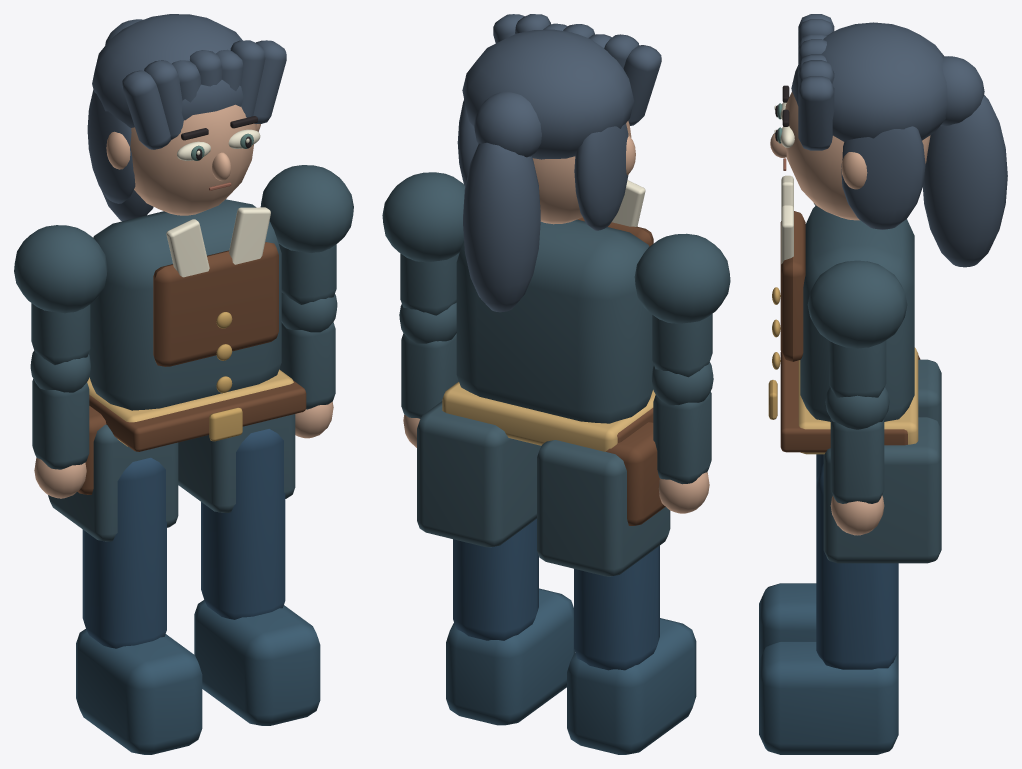
The model's file is wayfarer_woman.glb.
The picture shows the model from 3 angles, left to right: view 1: azimuth 30°, elevation 25°; view 2: azimuth 150°, elevation 25°; view 3: azimuth 270°, elevation 25°; orthographic projection. The views are drawn at different scales.
Parts seen in each view (by area): view 1: torso, left_leg_mesh, left_boot, right_leg_mesh, right_boot, chest_plate, hair_cap, head, left_pauldron, right_pauldron, coat_tail_left, detail_belt (+24 smaller); view 2: torso, coat_tail_right, hair_cap, coat_tail_left, left_boot, right_boot, hair_tail, left_leg_mesh, right_leg_mesh, left_pauldron, right_pauldron, belt (+15 smaller); view 3: right_boot, hair_cap, torso, hair_tail, coat_tail_right, right_leg_mesh, right_pauldron, hair_side_1, right_forearm, head, left_boot, chest_plate (+13 smaller).
Part boxes in pixels (bbox=[...]): torso: bbox=[88, 199, 281, 410]; left_leg_mesh: bbox=[82, 457, 166, 648]; left_boot: bbox=[76, 629, 202, 754]; right_leg_mesh: bbox=[201, 429, 285, 619]; right_boot: bbox=[194, 600, 320, 725]; chest_plate: bbox=[153, 242, 278, 366]; hair_cap: bbox=[92, 14, 243, 127]; head: bbox=[130, 104, 256, 215]; left_pauldron: bbox=[14, 225, 107, 313]; right_pauldron: bbox=[260, 165, 353, 252]; coat_tail_left: bbox=[48, 424, 178, 541]; detail_belt: bbox=[89, 380, 306, 451]; torso: bbox=[456, 219, 653, 423]; coat_tail_right: bbox=[417, 401, 541, 547]; hair_cap: bbox=[462, 29, 633, 159]; coat_tail_left: bbox=[537, 440, 670, 576]; left_boot: bbox=[567, 618, 696, 754]; right_boot: bbox=[446, 588, 574, 725]; hair_tail: bbox=[463, 142, 540, 312]; left_leg_mesh: bbox=[574, 545, 659, 670]; right_leg_mesh: bbox=[453, 519, 538, 640]; left_pauldron: bbox=[634, 233, 730, 323]; right_pauldron: bbox=[382, 172, 465, 262]; belt: bbox=[442, 382, 655, 451]; right_boot: bbox=[759, 641, 898, 754]; hair_cap: bbox=[791, 22, 948, 141]; torso: bbox=[800, 205, 914, 421]; hair_tail: bbox=[923, 95, 1007, 267]; coat_tail_right: bbox=[823, 417, 941, 563]; right_leg_mesh: bbox=[816, 464, 898, 669]; right_pauldron: bbox=[807, 260, 907, 348]; hair_side_1: bbox=[841, 126, 925, 229]; right_forearm: bbox=[830, 418, 884, 503]; head: bbox=[785, 92, 930, 220]; left_boot: bbox=[759, 583, 898, 660]; chest_plate: bbox=[780, 211, 805, 361].
Size of the model in its own units: 1.06 by 2.11 by 0.695.
